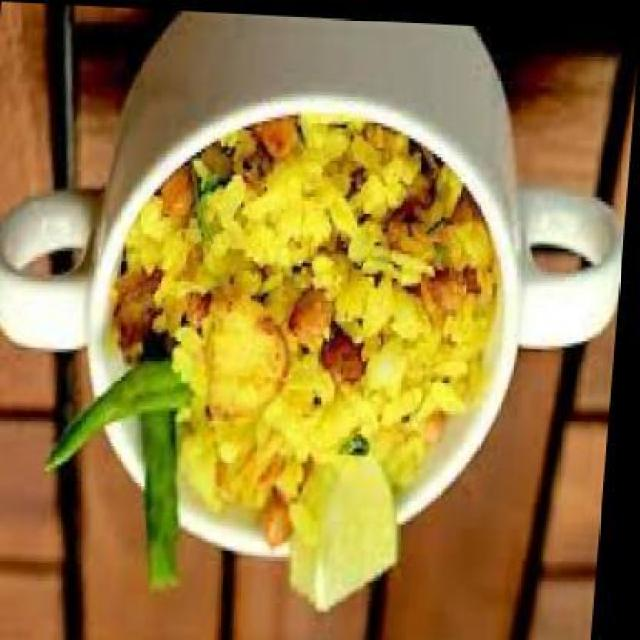poha: (97, 103, 509, 614)
